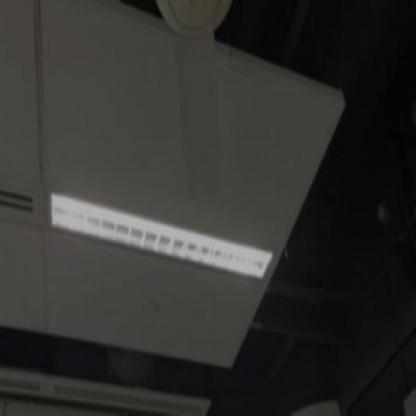light_on: (42, 175, 280, 300)
